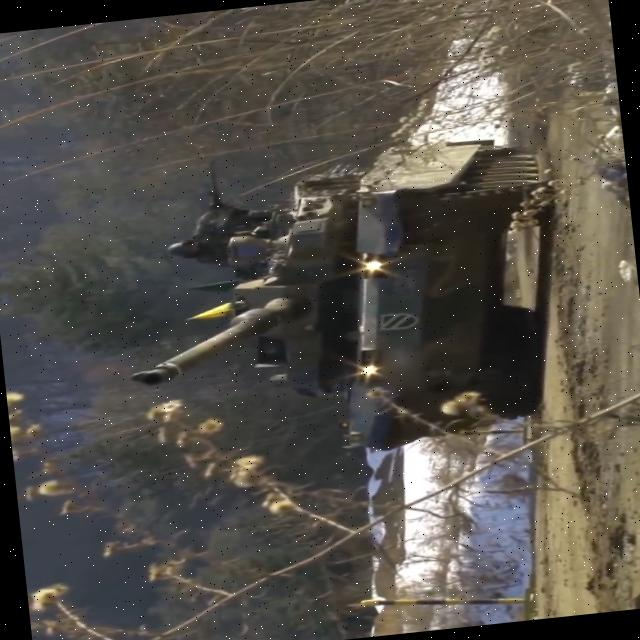korea tank: (109, 129, 576, 476)
